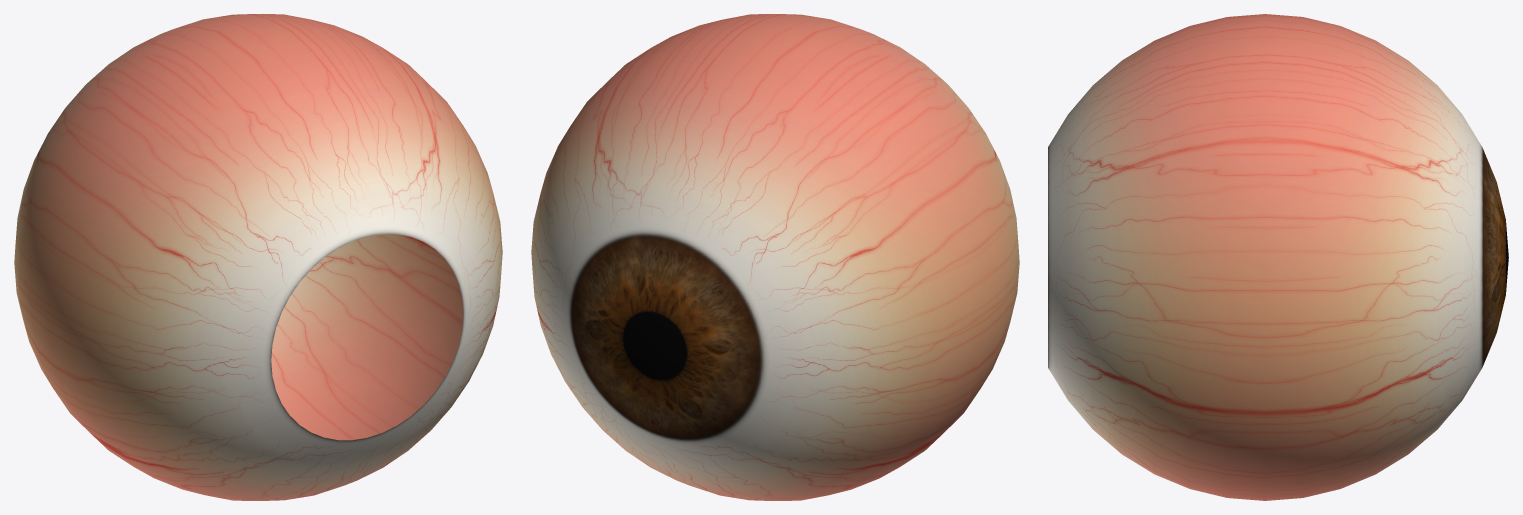
Rendered from EYE oo.FBX.
The picture shows the model from 3 angles, left to right: view 1: azimuth 30°, elevation 25°; view 2: azimuth 150°, elevation 25°; view 3: azimuth 270°, elevation 25°; orthographic projection.
Parts seen in each view (by area): view 1: Sphere002; view 2: Sphere002; view 3: Sphere002.
Part boxes in pixels (x1,y1,x2,y2): Sphere002: (14,14,502,500); Sphere002: (531,14,1019,500); Sphere002: (1048,14,1508,500).
Bounding box in the file's own units: 69.5 × 69.5 × 65.71.
